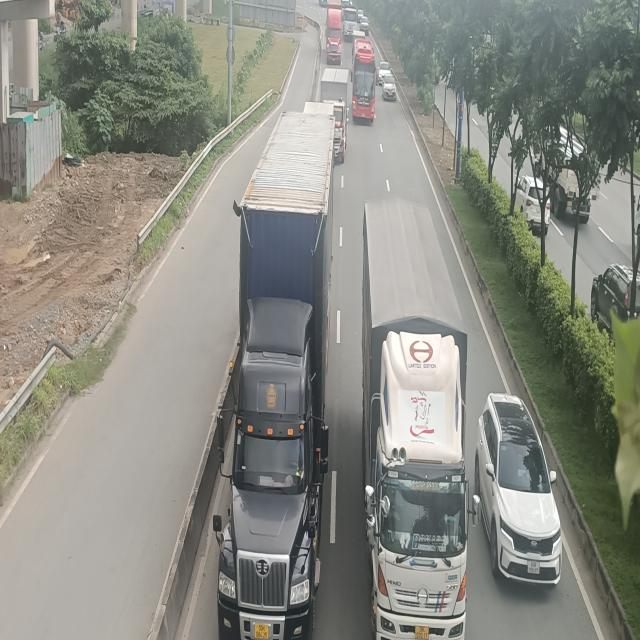car: (474, 390, 562, 582), (382, 75, 397, 101)
coach: (350, 40, 377, 126)
container: (211, 109, 334, 636), (325, 0, 342, 63)
truck: (362, 200, 468, 640), (320, 68, 349, 164)
